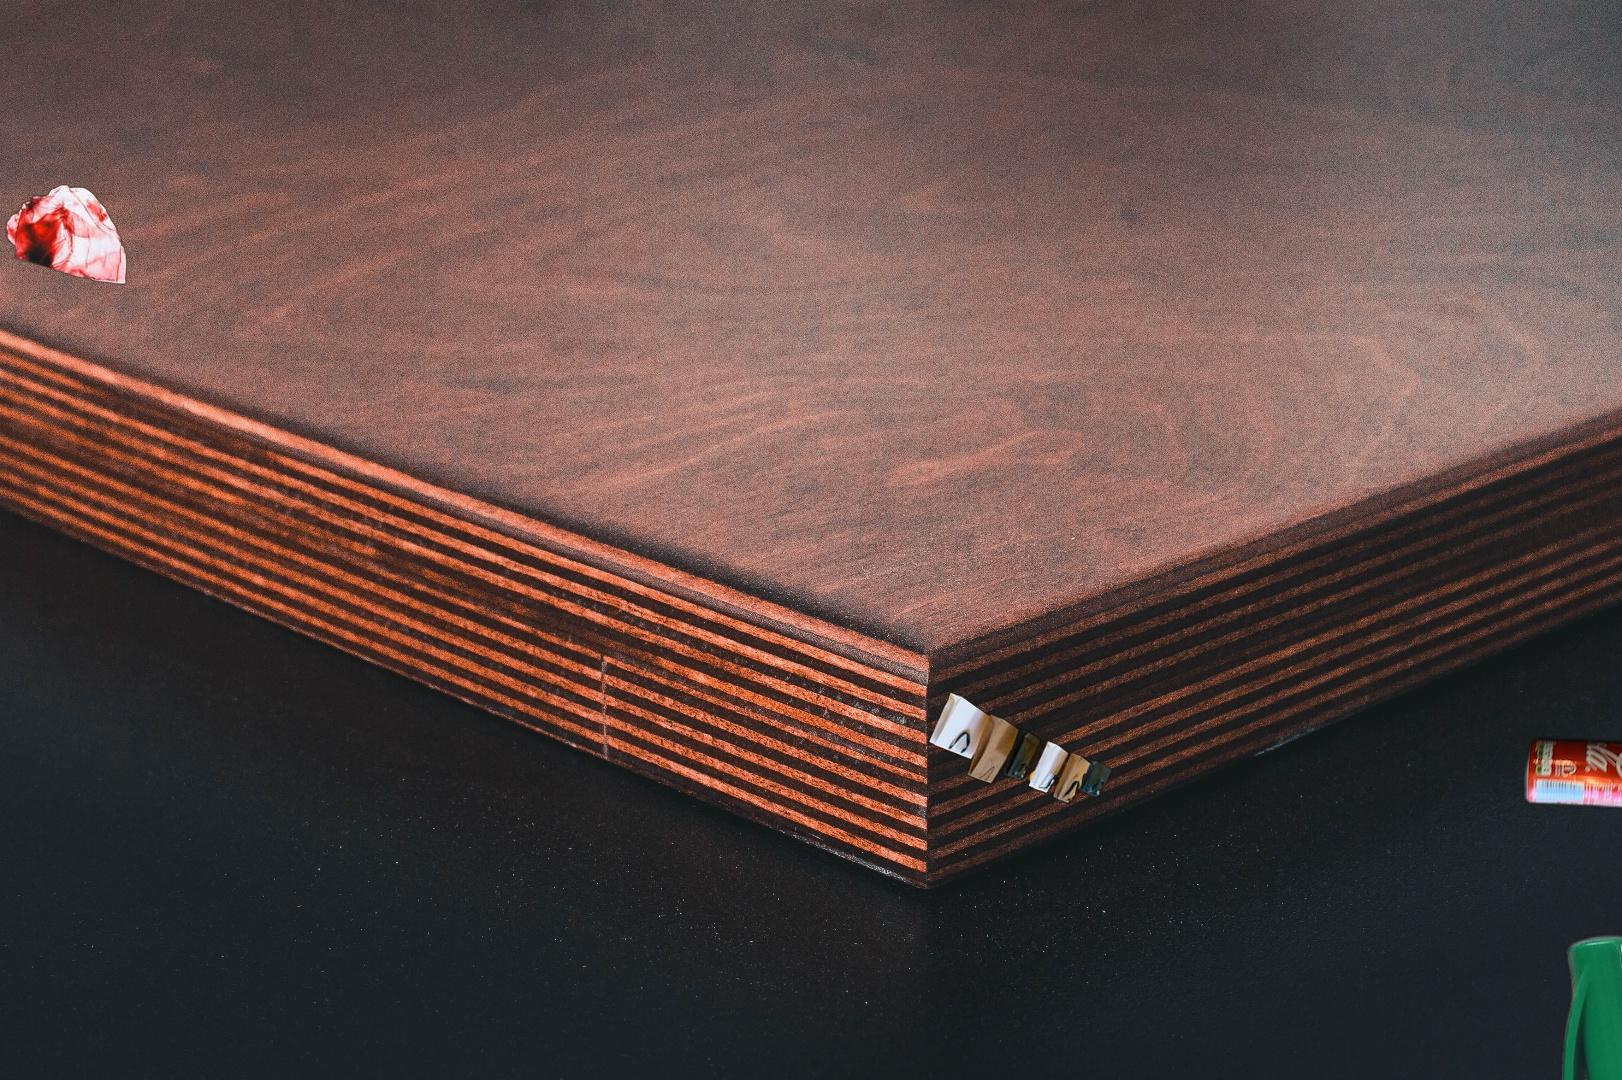metal-cans: (1520, 732, 1622, 816)
paper-bag: (925, 691, 1113, 806)
penholder: (1552, 911, 1622, 1080)
plastic-bag: (2, 181, 128, 287)
